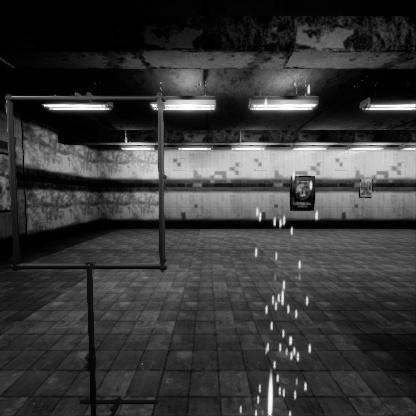gate: (6, 144, 180, 321)
